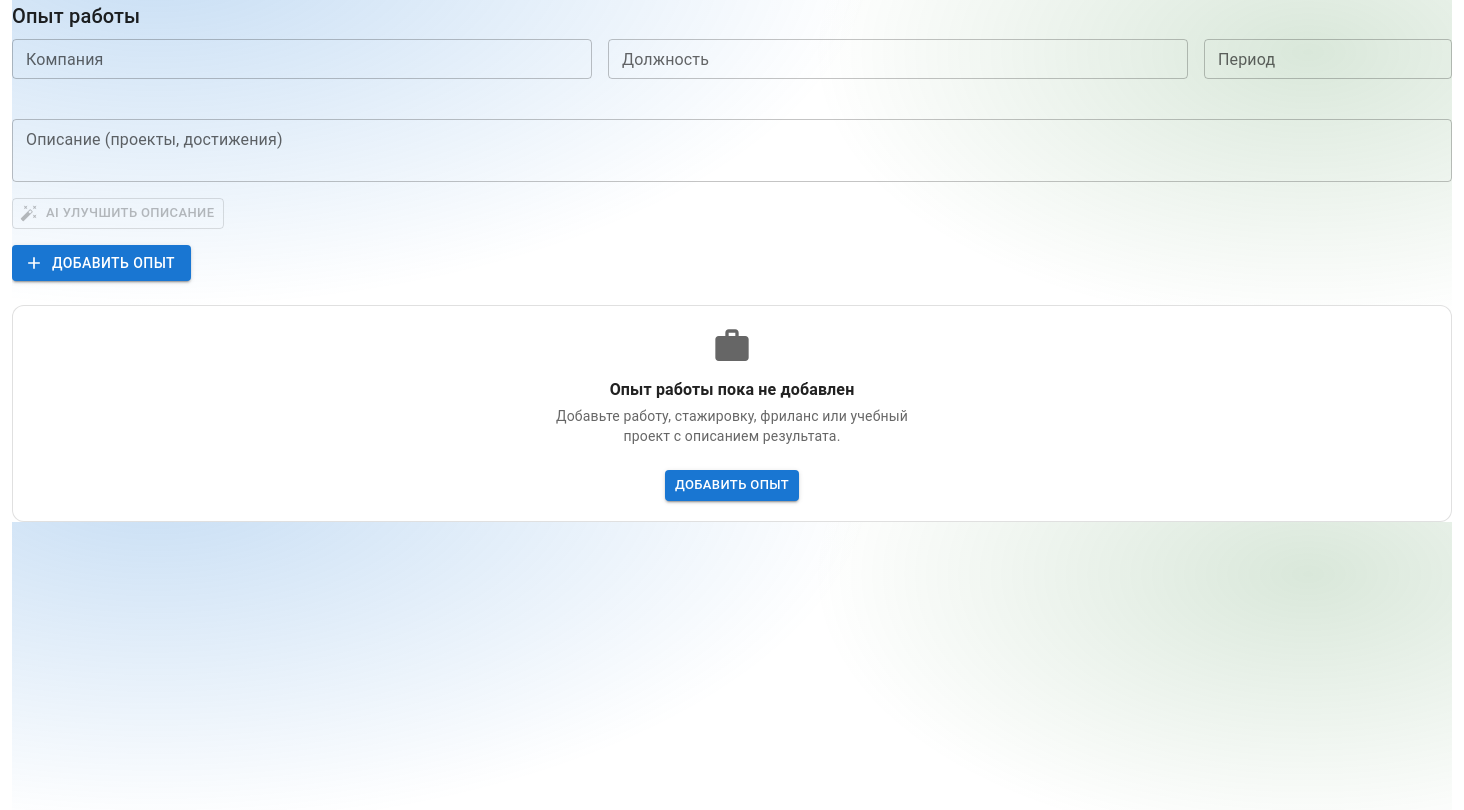
Scenario: ExperienceBlock form validation › error clears when user types
The width and height of the screenshot is (1464, 810).
Click the button "Добавить опыт" below "Описание (проекты, достижения)" at point(102, 263), box 12,245 -> 191,281
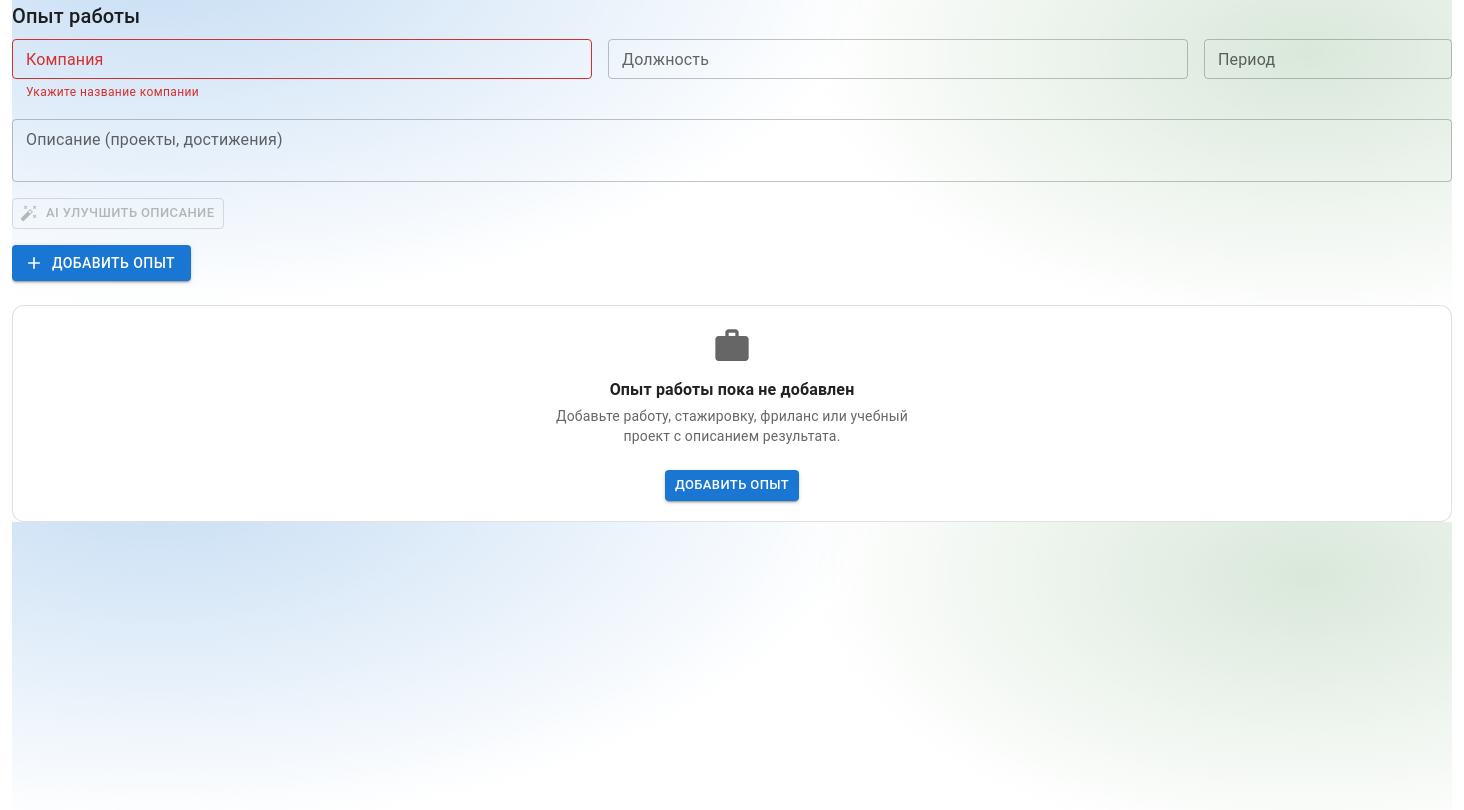
Check: the text "Укажите название компании" is shown, box 26,85 -> 199,99
Type "X" into the field labelled "Компания" at point(302, 59), box 12,39 -> 592,79
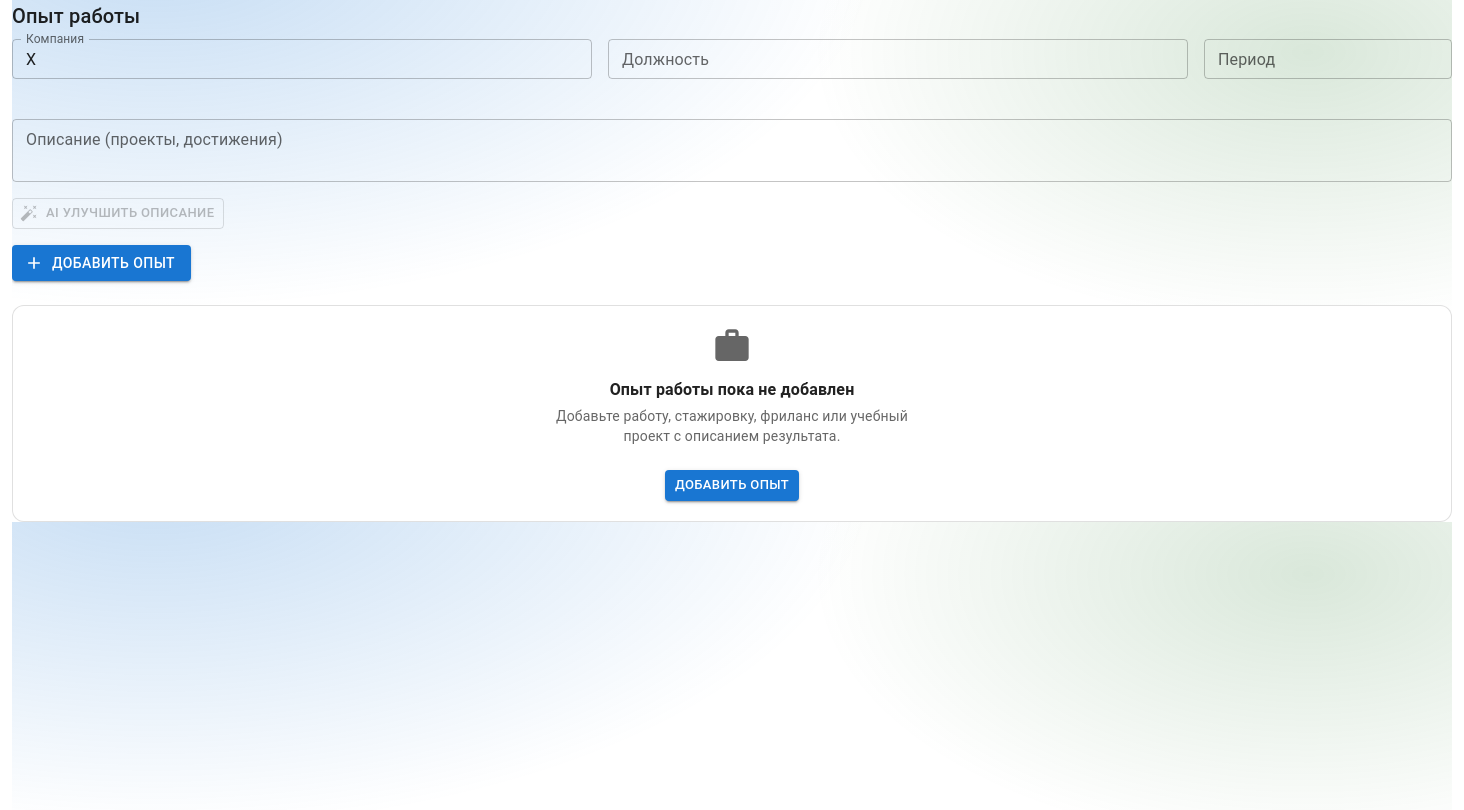
Check: the text "Укажите название компании" is gone
